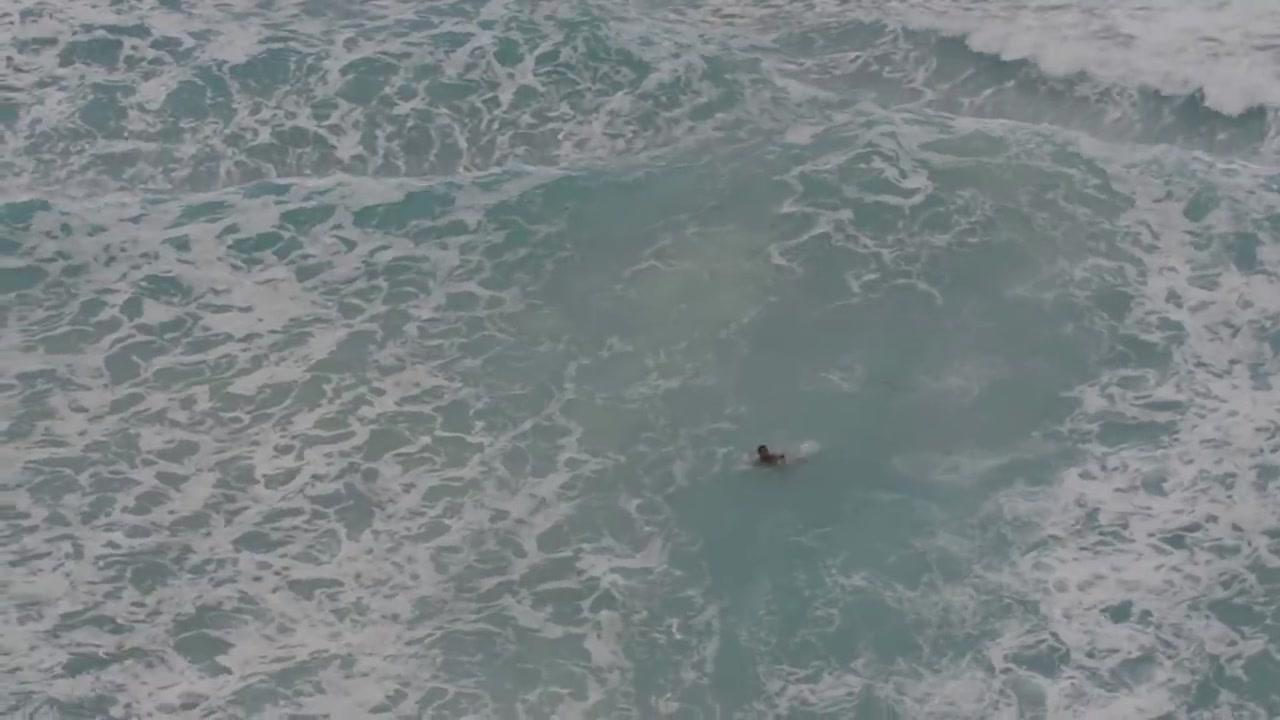human: (738, 431, 800, 476)
